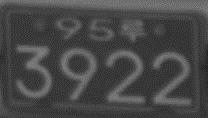2: (104, 47, 146, 103), (151, 50, 193, 106)
3: (16, 43, 53, 99)
5: (88, 18, 116, 42)
9: (59, 46, 98, 101), (55, 16, 83, 39)
루: (119, 18, 146, 42)
